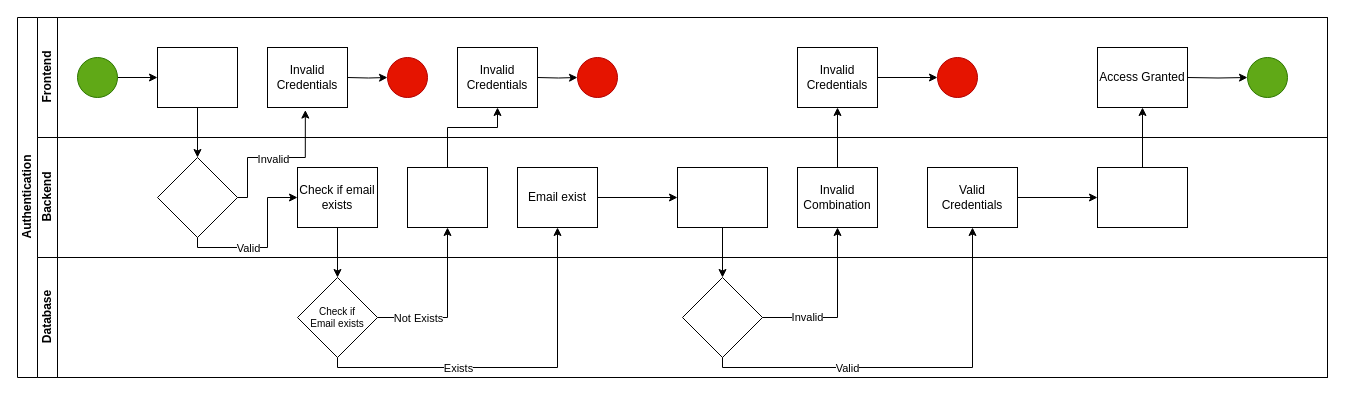
This 1345x395 diagram has some shape labels left out. Here are the shapes that lost their labels. From the top down, the centre of each, then its label:
At pixel 197 77: "Input Email and Password".
At pixel 197 197: "Is Valid Request?".
At pixel 447 197: "Email doesn't exist".
At pixel 722 197: "Validate Email and password combination".
At pixel 1142 197: "Create JWT Token".
At pixel 722 317: "Validate combination".
